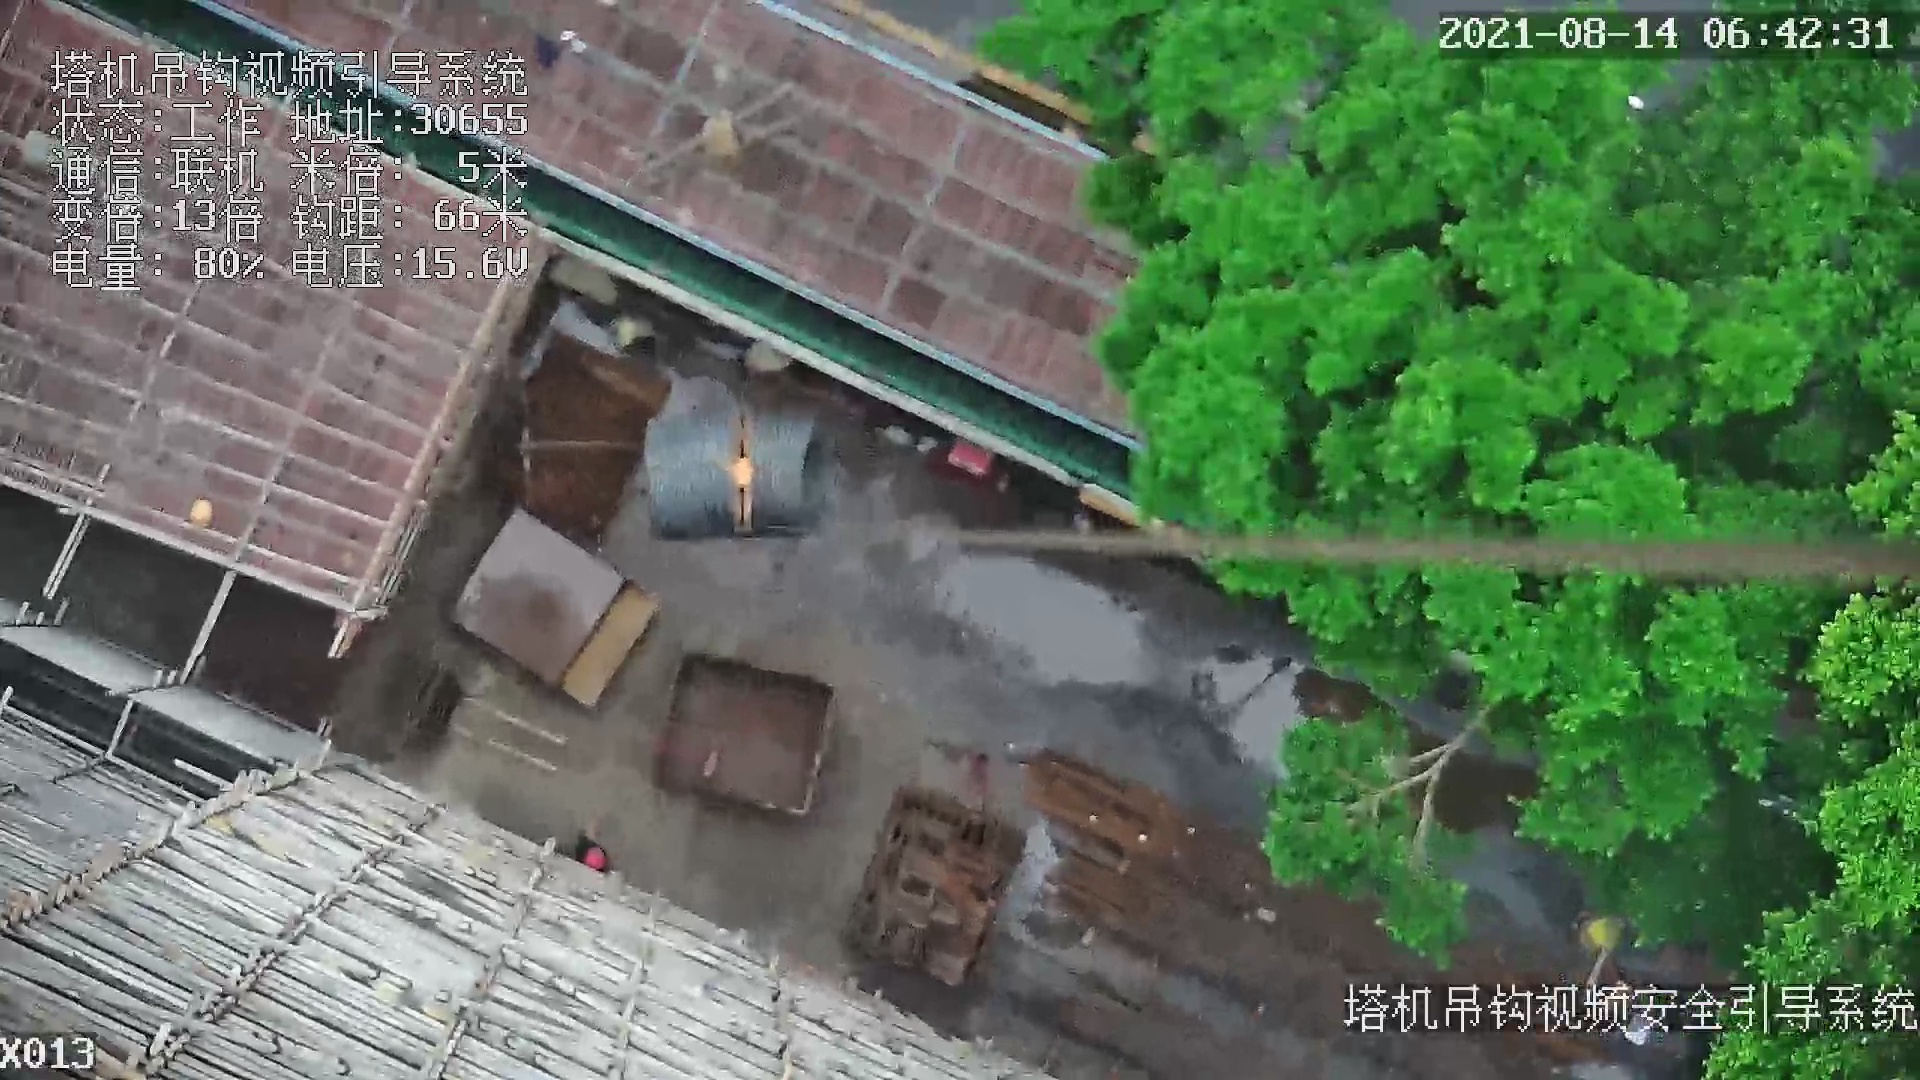hook: (717, 406, 758, 533)
person: (1578, 912, 1625, 956), (608, 313, 654, 353), (576, 835, 618, 869)
